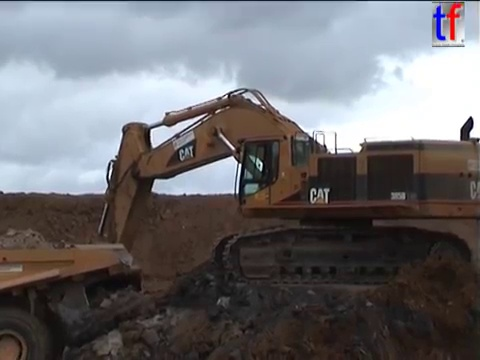excavator: (25, 85, 479, 335)
truck: (1, 238, 145, 360)
